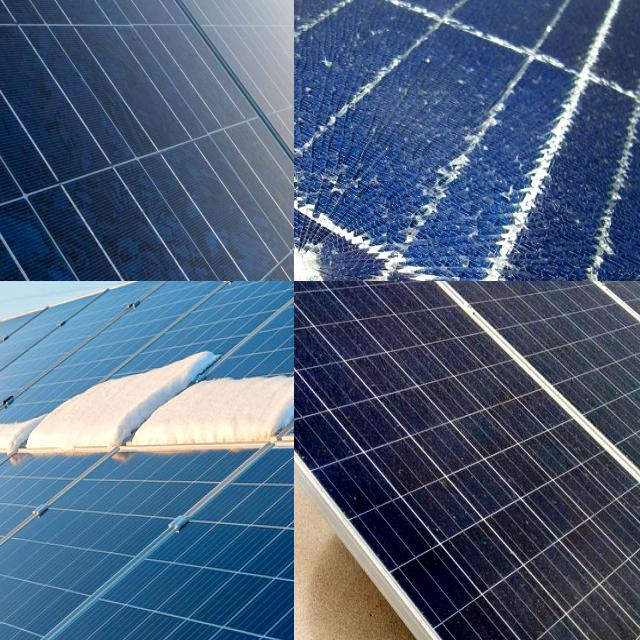crack: (0, 10, 195, 281), (81, 141, 294, 281)
dust: (432, 493, 633, 640), (485, 281, 640, 439), (294, 281, 407, 438)
hotspot: (294, 205, 356, 281)
panel: (46, 347, 294, 475), (0, 396, 91, 508), (0, 493, 82, 591), (0, 394, 66, 473), (0, 610, 50, 640)
